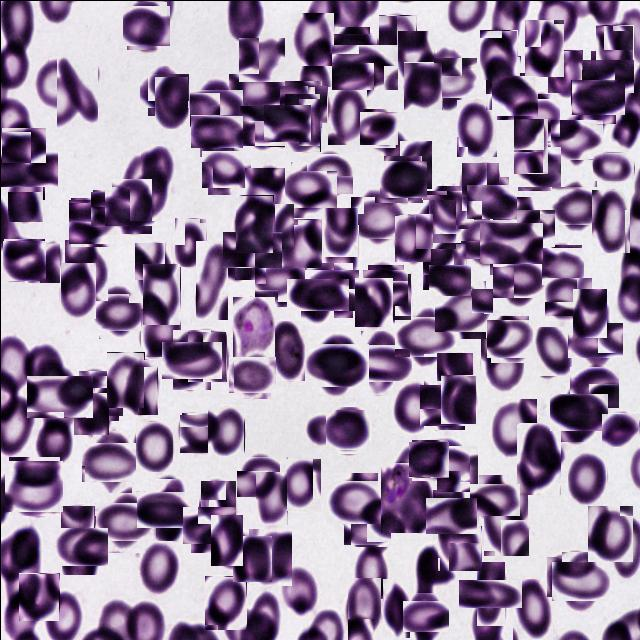red blood cell: (516, 422, 560, 494), (482, 488, 528, 555), (6, 458, 61, 513), (337, 39, 392, 94), (31, 369, 86, 423), (56, 56, 97, 128), (308, 338, 362, 392), (398, 310, 451, 362), (484, 216, 536, 269), (490, 398, 536, 457), (422, 442, 474, 494), (418, 51, 471, 102), (64, 239, 107, 300), (587, 504, 633, 561), (86, 436, 137, 487), (437, 511, 481, 570), (354, 337, 404, 388), (195, 240, 227, 319), (100, 496, 150, 546), (354, 192, 404, 242), (498, 202, 548, 252), (330, 476, 380, 526), (438, 284, 488, 334), (142, 484, 192, 534), (0, 142, 50, 192), (591, 188, 630, 252), (512, 578, 552, 640), (248, 528, 291, 585), (167, 334, 216, 384), (556, 556, 605, 605), (456, 98, 497, 156), (392, 380, 436, 434), (480, 337, 523, 392), (142, 262, 180, 324), (22, 342, 66, 395), (524, 18, 564, 76), (464, 214, 512, 262), (308, 266, 356, 314), (554, 388, 602, 436), (292, 270, 340, 318), (107, 182, 155, 230), (56, 522, 104, 570), (228, 225, 276, 273), (268, 320, 306, 380), (204, 575, 246, 629), (327, 86, 366, 144), (134, 241, 173, 299), (276, 218, 322, 267), (138, 539, 178, 595), (279, 457, 321, 510), (552, 116, 600, 162), (346, 576, 381, 639), (235, 194, 273, 252), (292, 12, 333, 65), (69, 198, 115, 245), (106, 351, 144, 407), (284, 92, 320, 151), (244, 167, 284, 220), (94, 288, 140, 334), (554, 182, 600, 228), (238, 452, 284, 498), (496, 256, 542, 302), (286, 166, 332, 212), (233, 67, 279, 113), (256, 258, 302, 304), (192, 84, 238, 130), (570, 364, 616, 410), (467, 570, 513, 616), (567, 450, 606, 504), (436, 352, 472, 410), (238, 36, 283, 82), (574, 74, 620, 119), (186, 502, 231, 548), (422, 242, 466, 289), (421, 382, 466, 427), (76, 372, 120, 418), (572, 316, 616, 362), (35, 60, 79, 106), (59, 262, 95, 318), (187, 330, 226, 381), (18, 572, 59, 620), (414, 199, 454, 248), (513, 117, 548, 173), (200, 479, 236, 533), (397, 30, 433, 84), (135, 420, 173, 471), (204, 147, 248, 191), (124, 3, 168, 47), (326, 408, 370, 452), (515, 144, 559, 188), (428, 492, 472, 536), (492, 74, 536, 118), (129, 168, 166, 220), (140, 308, 180, 356), (7, 168, 43, 221), (324, 224, 358, 280), (34, 416, 72, 466), (595, 24, 633, 74), (479, 29, 517, 79), (194, 108, 237, 152), (485, 55, 520, 109), (403, 61, 442, 109), (461, 161, 499, 210), (354, 277, 392, 326), (207, 405, 244, 455), (546, 274, 589, 317), (308, 152, 350, 196), (424, 188, 468, 230), (240, 104, 284, 146), (298, 53, 331, 109), (254, 202, 294, 248), (353, 546, 388, 598), (534, 326, 571, 375), (469, 180, 512, 222), (488, 317, 530, 360), (265, 101, 307, 144), (381, 157, 423, 200), (154, 75, 188, 128), (232, 535, 271, 581), (125, 358, 157, 414), (378, 14, 416, 61), (60, 504, 95, 555), (394, 214, 431, 262), (330, 30, 372, 72), (516, 96, 558, 138), (231, 354, 273, 396), (143, 70, 185, 112), (586, 54, 628, 96), (473, 478, 515, 520), (440, 374, 476, 423), (364, 266, 406, 308), (281, 82, 323, 124), (2, 238, 44, 280), (0, 124, 42, 166), (255, 470, 287, 524), (382, 577, 410, 637), (282, 567, 321, 610), (572, 288, 606, 337), (323, 207, 357, 256), (376, 272, 411, 319), (210, 514, 242, 565), (180, 414, 220, 454), (542, 246, 582, 286), (174, 217, 206, 266), (399, 140, 431, 188), (406, 596, 445, 635), (547, 49, 582, 92), (140, 146, 172, 193), (347, 510, 385, 549), (410, 440, 448, 479), (24, 241, 60, 282), (73, 392, 108, 434), (90, 190, 128, 227), (9, 524, 38, 572), (431, 261, 468, 298), (601, 412, 639, 446), (546, 556, 578, 596), (361, 110, 396, 146), (592, 151, 634, 180)
trophozoite: (380, 462, 436, 532), (232, 296, 274, 356)
